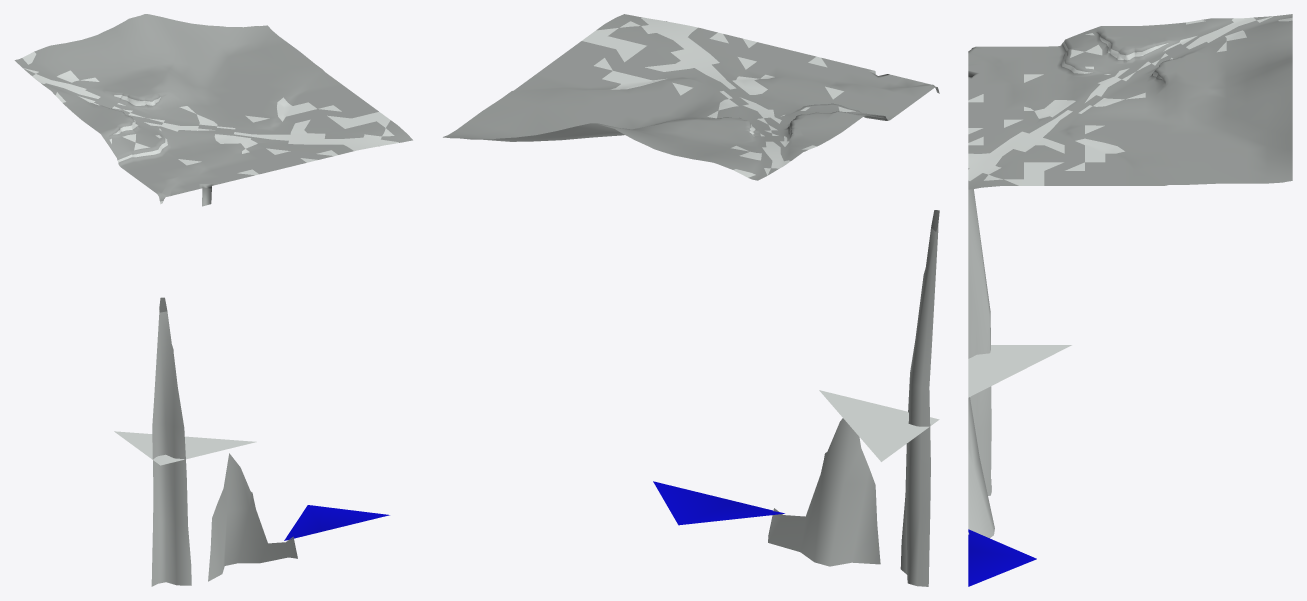
3 renders of one model, left to right at view 1: azimuth 30°, elevation 25°; view 2: azimuth 150°, elevation 25°; view 3: azimuth 270°, elevation 25°, orthographic. The views are drawn at different scales.
Visible parts, largest first — view 1: G:\FFXIV-MapTools\exports\w1f5\bg\ffxiv\wil_w1\fld\w1f5\bgpl (×13); view 2: G:\FFXIV-MapTools\exports\w1f5\bg\ffxiv\wil_w1\fld\w1f5\bgpl (×10); view 3: G:\FFXIV-MapTools\exports\w1f5\bg\ffxiv\wil_w1\fld\w1f5\bgpl (×13).
Part boxes in pixels (left/top/right/bottom): G:\FFXIV-MapTools\exports\w1f5\bg\ffxiv\wil_w1\fld\w1f5\bgpl (×13): left=14, top=14, right=412, bottom=586; G:\FFXIV-MapTools\exports\w1f5\bg\ffxiv\wil_w1\fld\w1f5\bgpl (×10): left=443, top=14, right=939, bottom=586; G:\FFXIV-MapTools\exports\w1f5\bg\ffxiv\wil_w1\fld\w1f5\bgpl (×13): left=968, top=14, right=1292, bottom=586.
Bounding box in the file's own units: 128 × 213 × 128.
